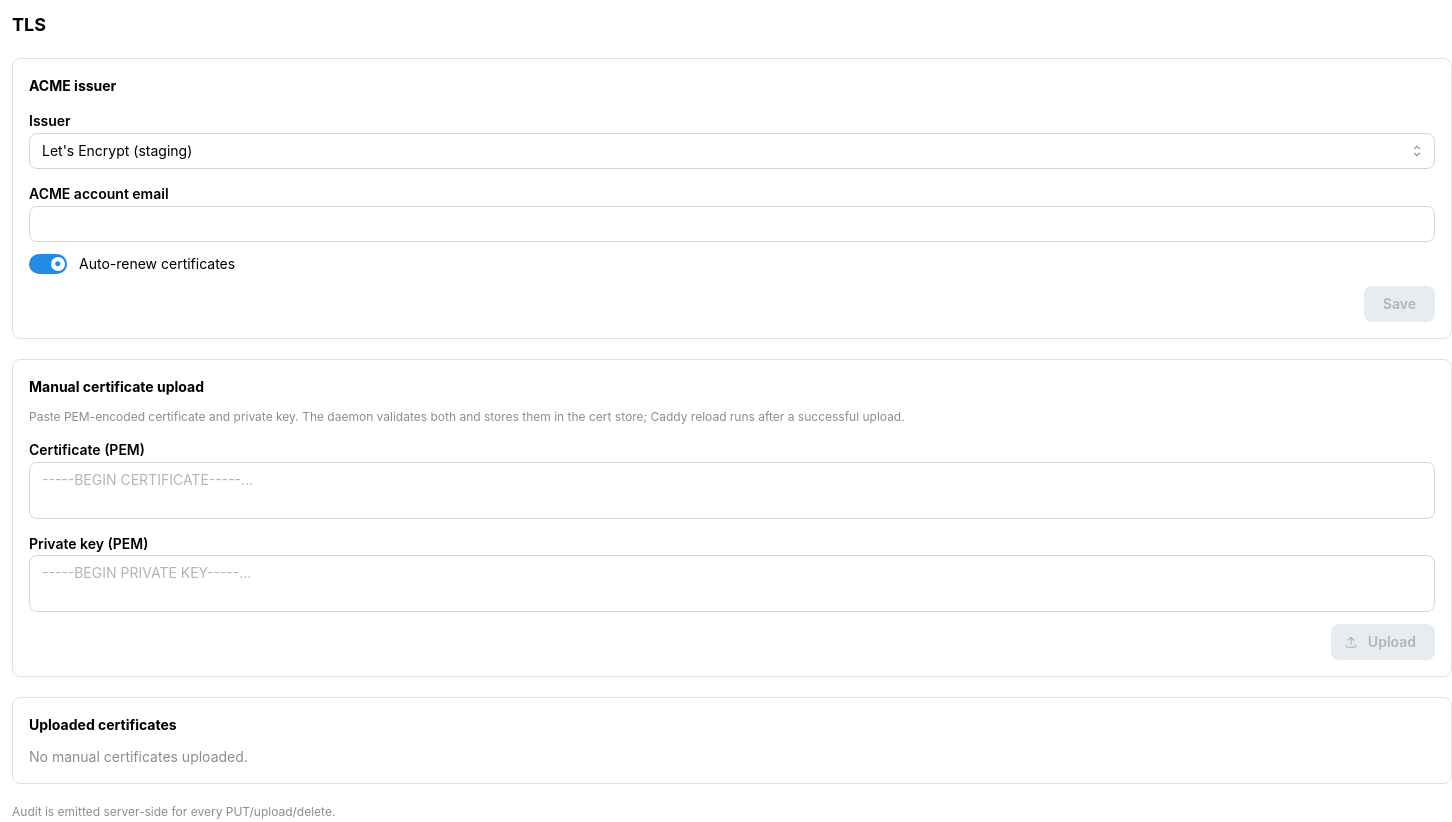
Test: TlsRealSection (T5) › blocks manual cert upload when PEM blob is malformed
Type "not a real pem" into the text box with test id "tls-real-cert-pem". click: {"x": 732, "y": 490}
box: [29, 462, 1435, 519]
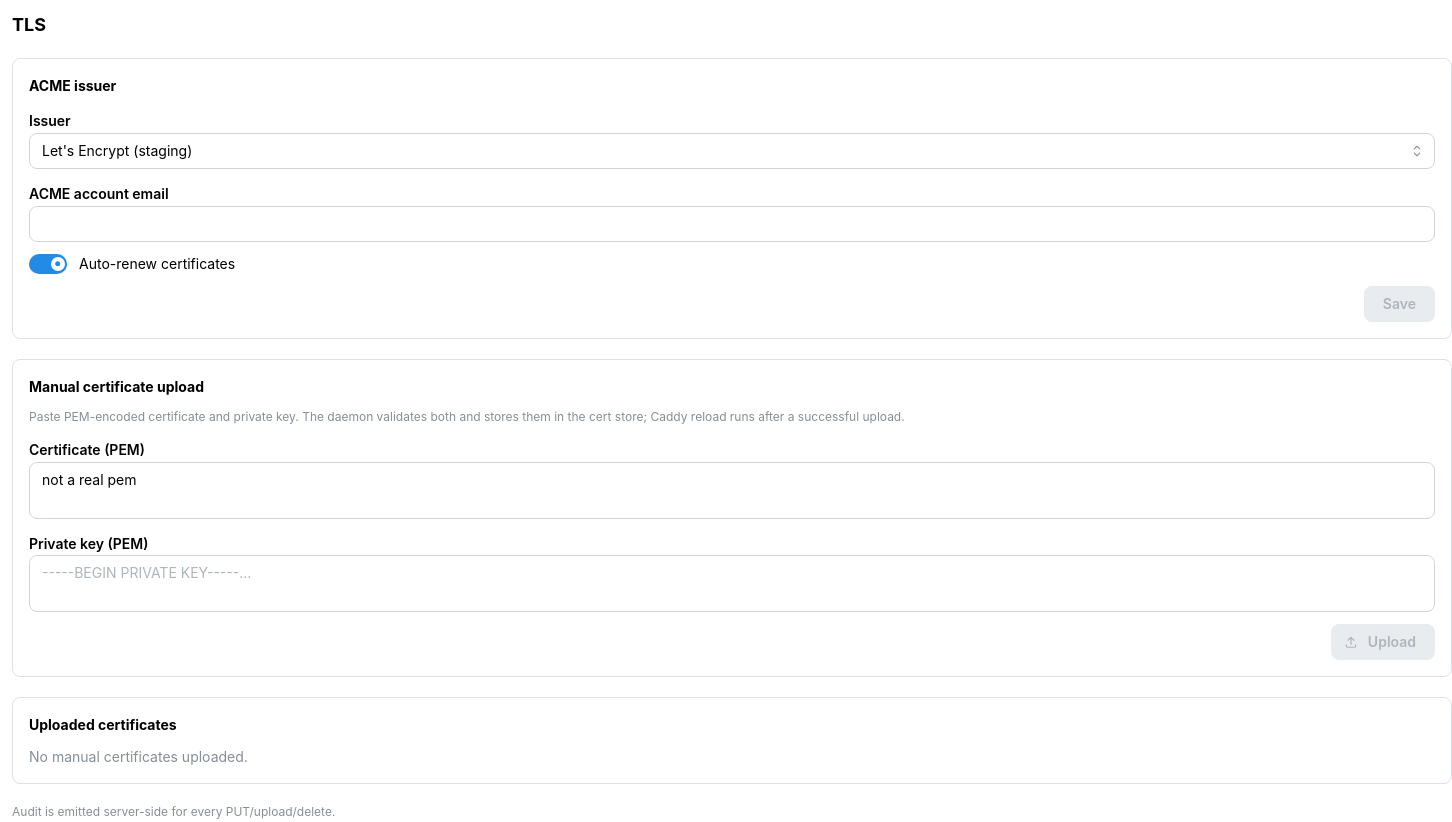
Type "also not a key" into the text box with test id "tls-real-key-pem". click: {"x": 732, "y": 584}
box: [29, 556, 1435, 612]
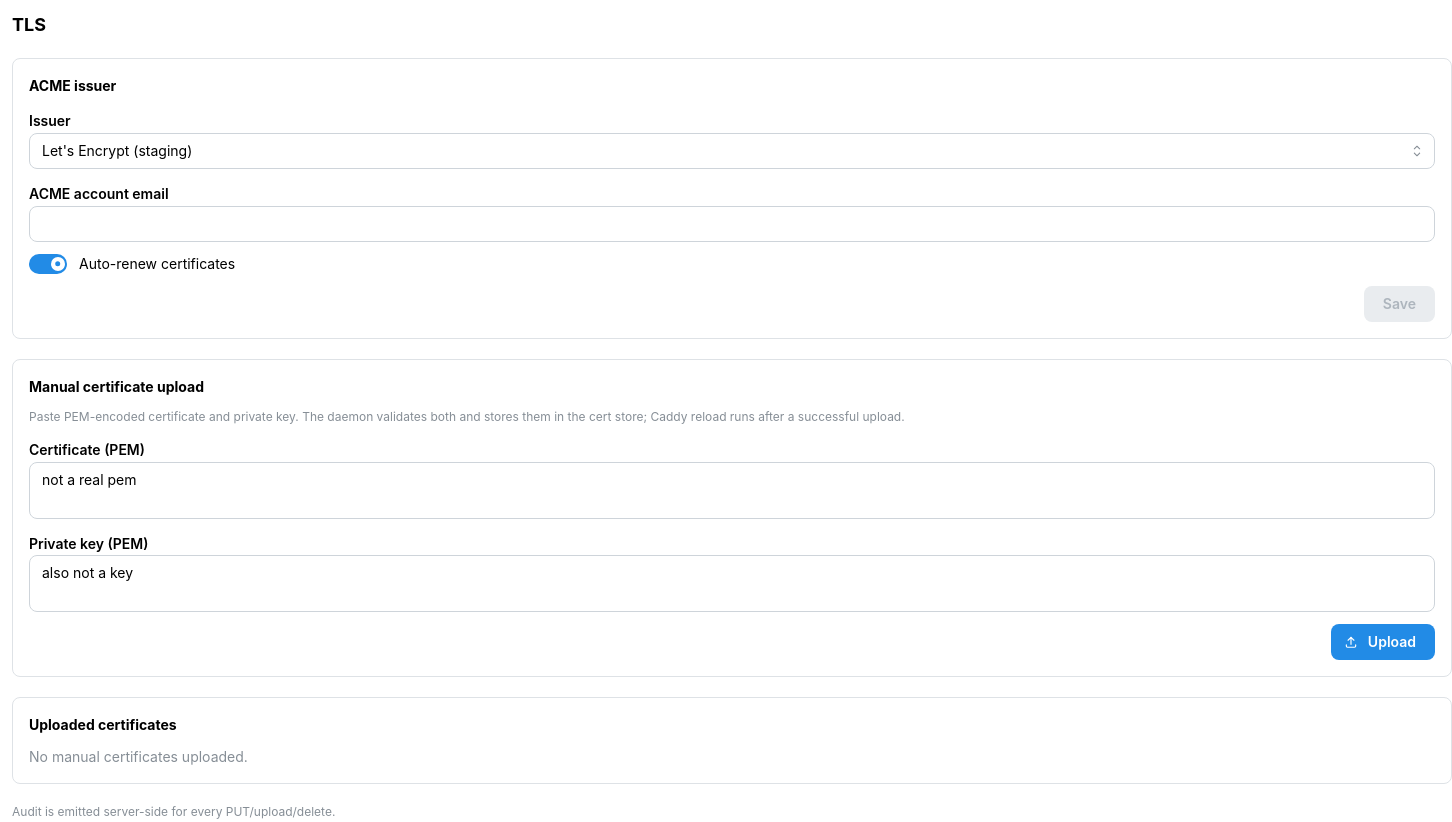
Click the button with test id "tls-real-upload". click: {"x": 1383, "y": 642}
box: [1331, 624, 1435, 660]
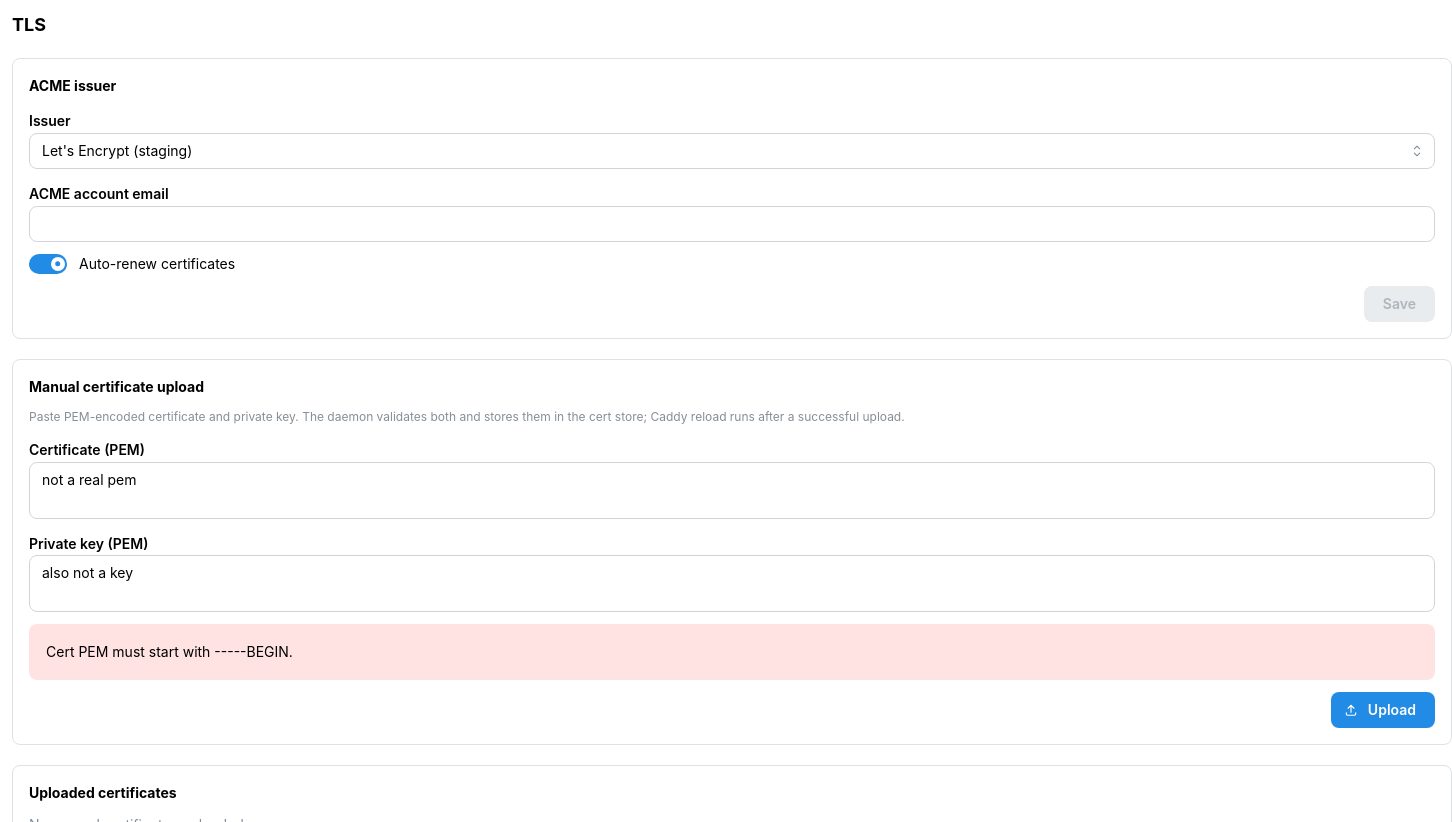
Check: the message with test id "tls-real-upload-error" shows "-----BEGIN", box [46, 643, 293, 660]
